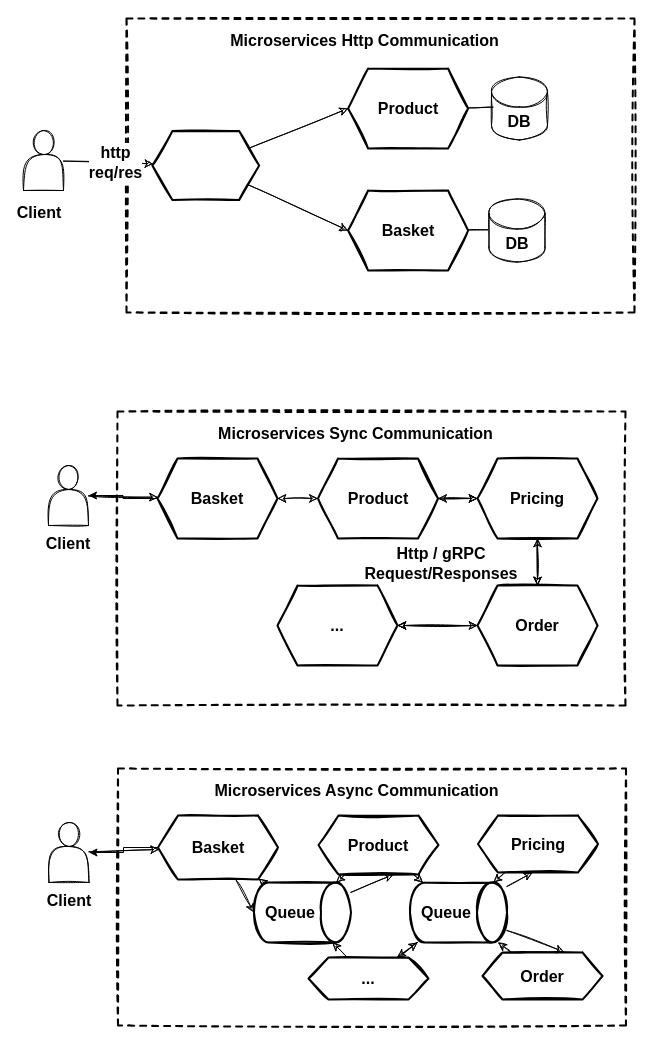
Some shapes in this 652 by 1043 pixel diagram are drawn without their labels. Here are the shapes that lost their labels. From the top down, the box of each, then its label:
(151, 130, 260, 200): API Gw
(125, 17, 635, 313): HTTP Request / Response
